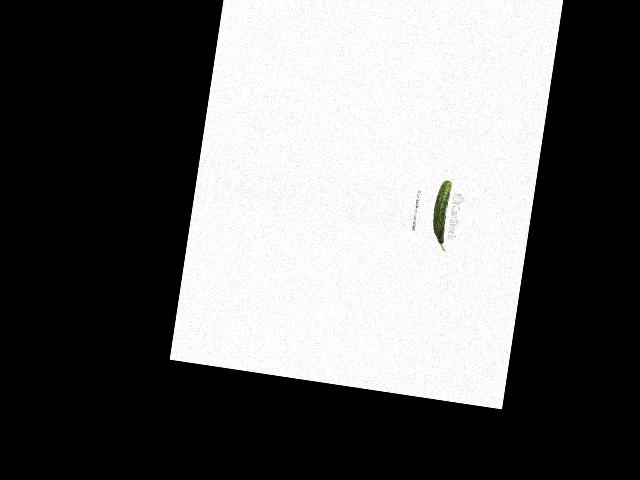cucumber: (428, 179, 455, 251)
